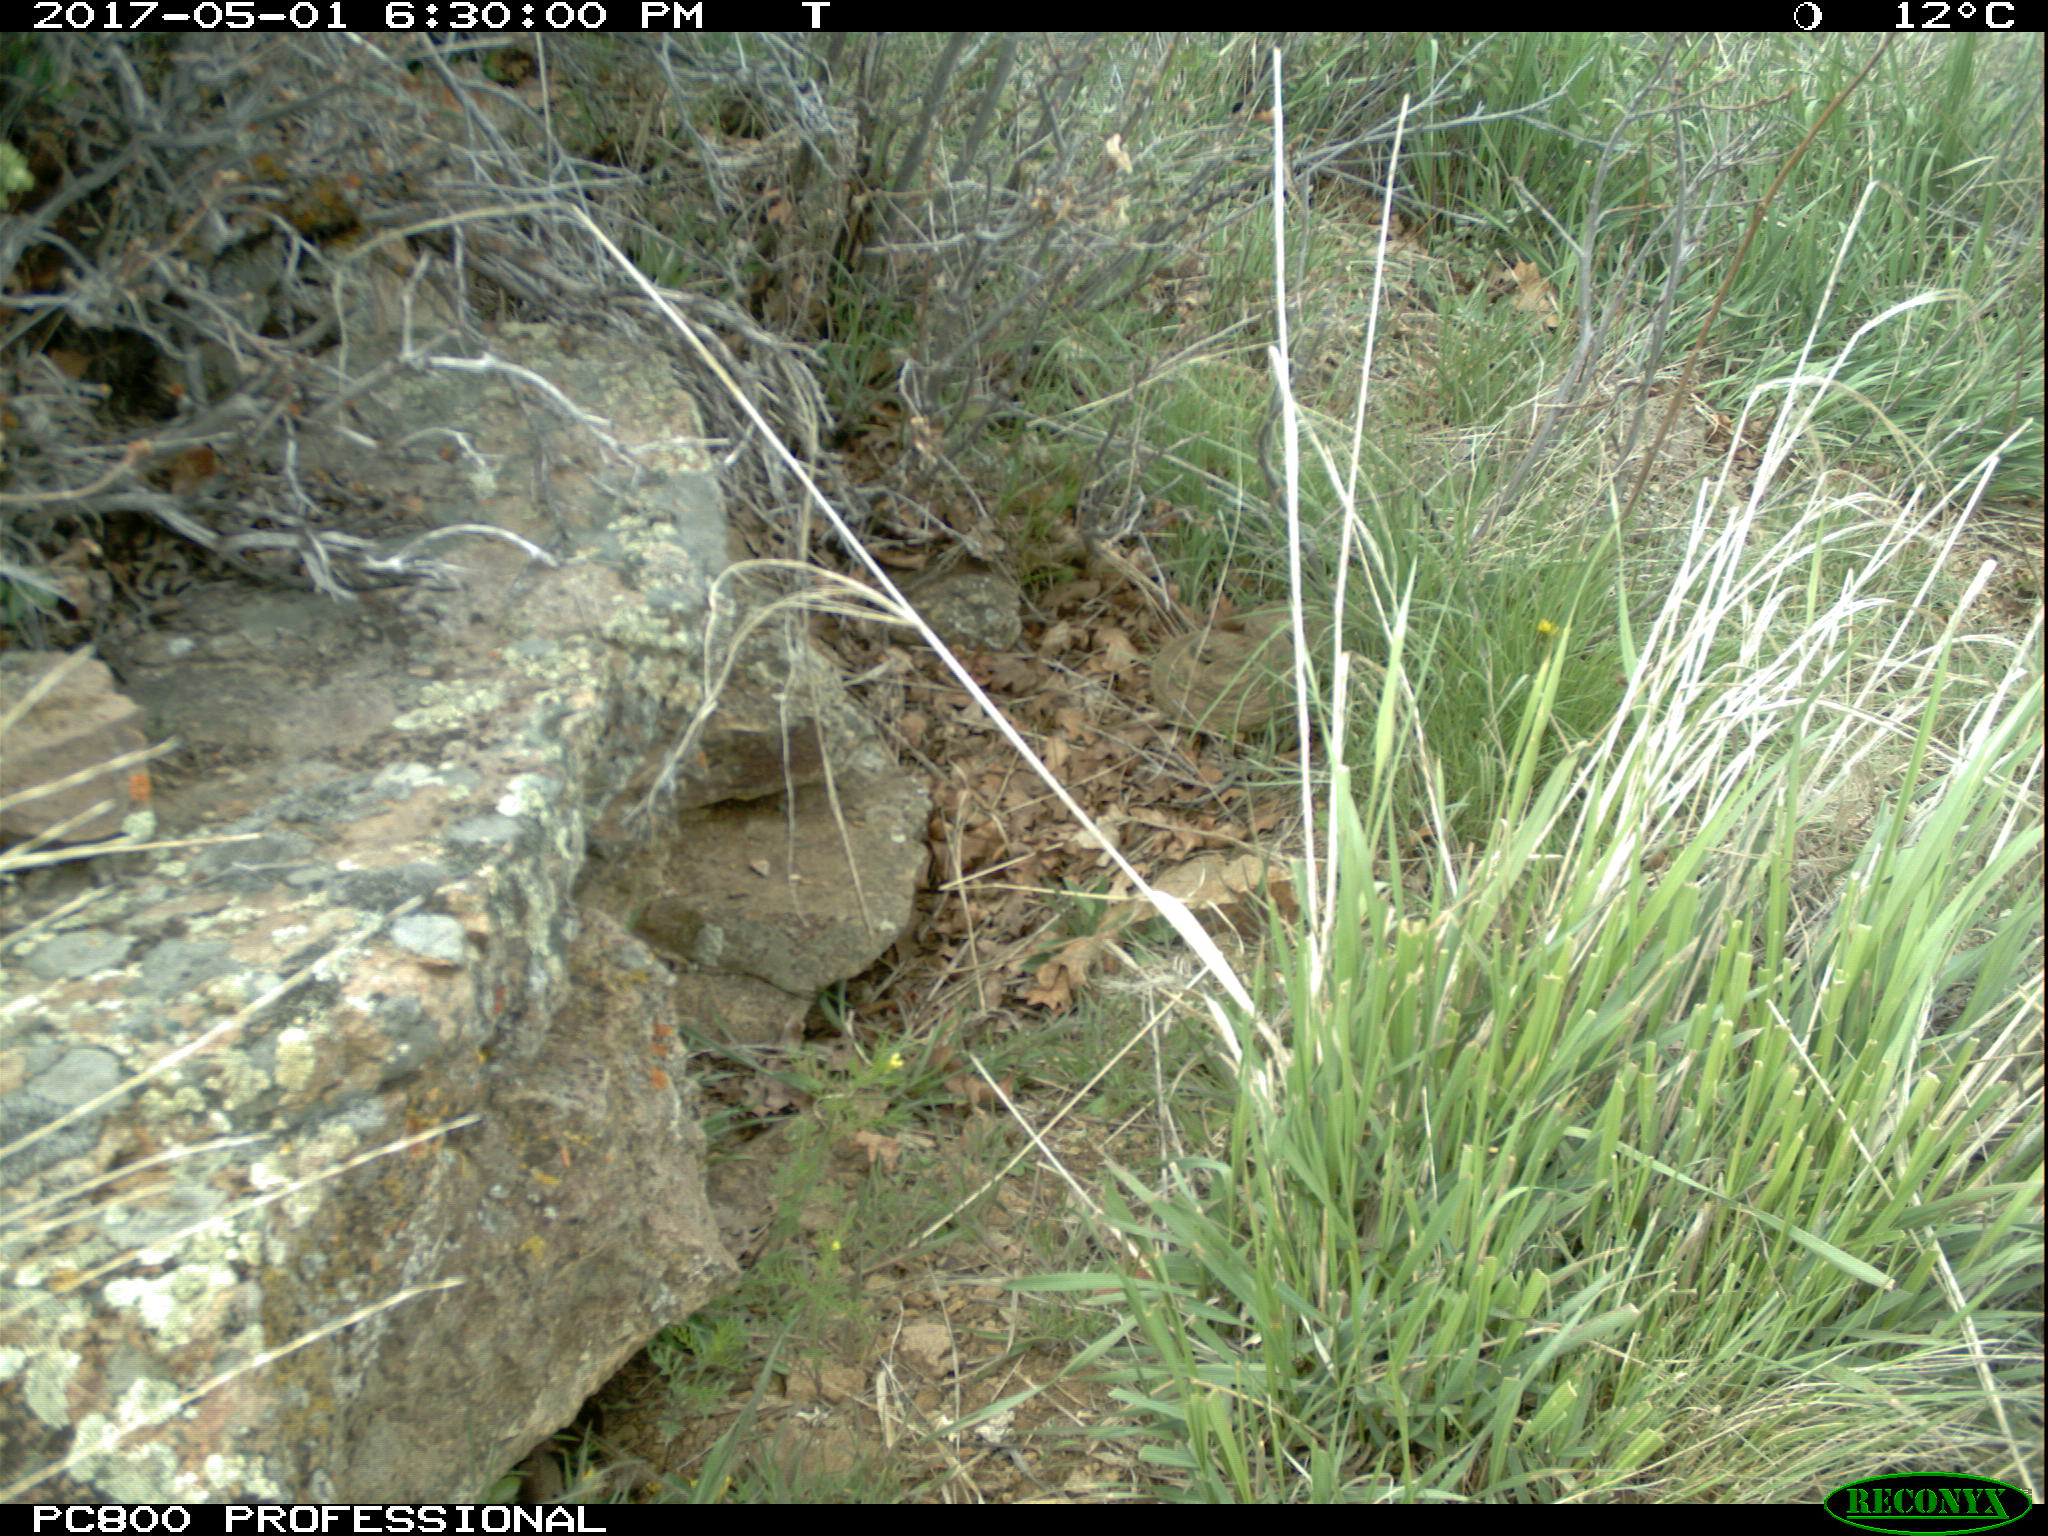snake: (1150, 605, 1338, 728)
